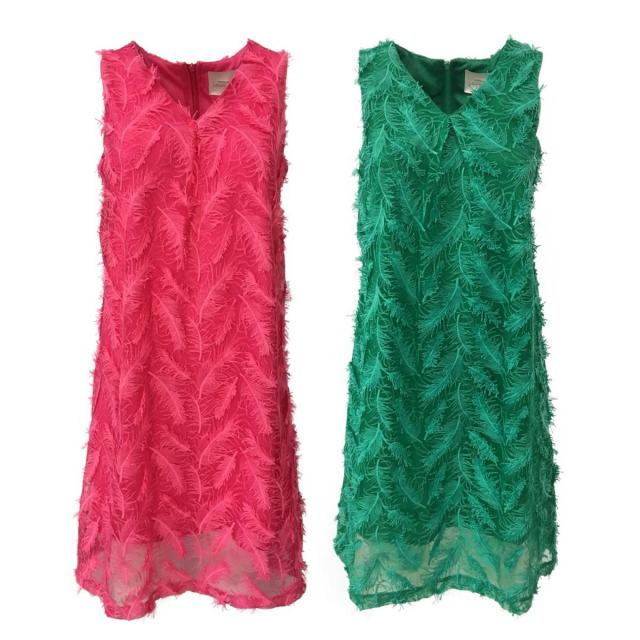Dress: (78, 39, 311, 625)
